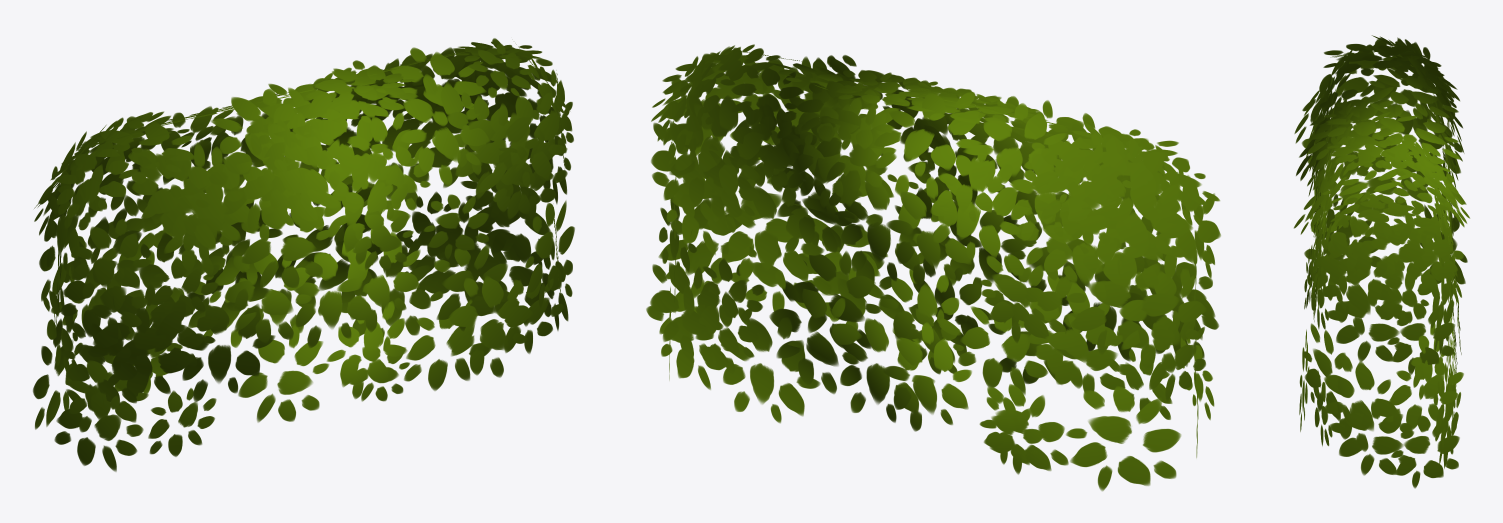
3 views of the same model, side by side, from view 1: azimuth 30°, elevation 25°; view 2: azimuth 150°, elevation 25°; view 3: azimuth 270°, elevation 25° (orthographic). The views are drawn at different scales.
Parts seen in each view (by area): view 1: Bush_Large; view 2: Bush_Large; view 3: Bush_Large.
Boxes of the visible parts, <box> form: Bush_Large: <box>33,38,574,471</box>; Bush_Large: <box>646,44,1220,491</box>; Bush_Large: <box>1294,35,1469,488</box>.
Bounding box in the file's own units: 3.81 × 2.44 × 1.45.
1 material, 1 textured.
